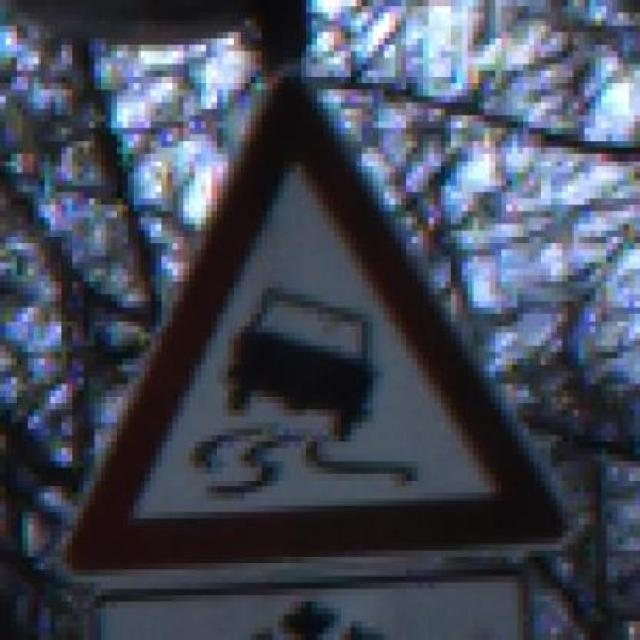Slippery Road Ahead: (56, 70, 573, 570)
